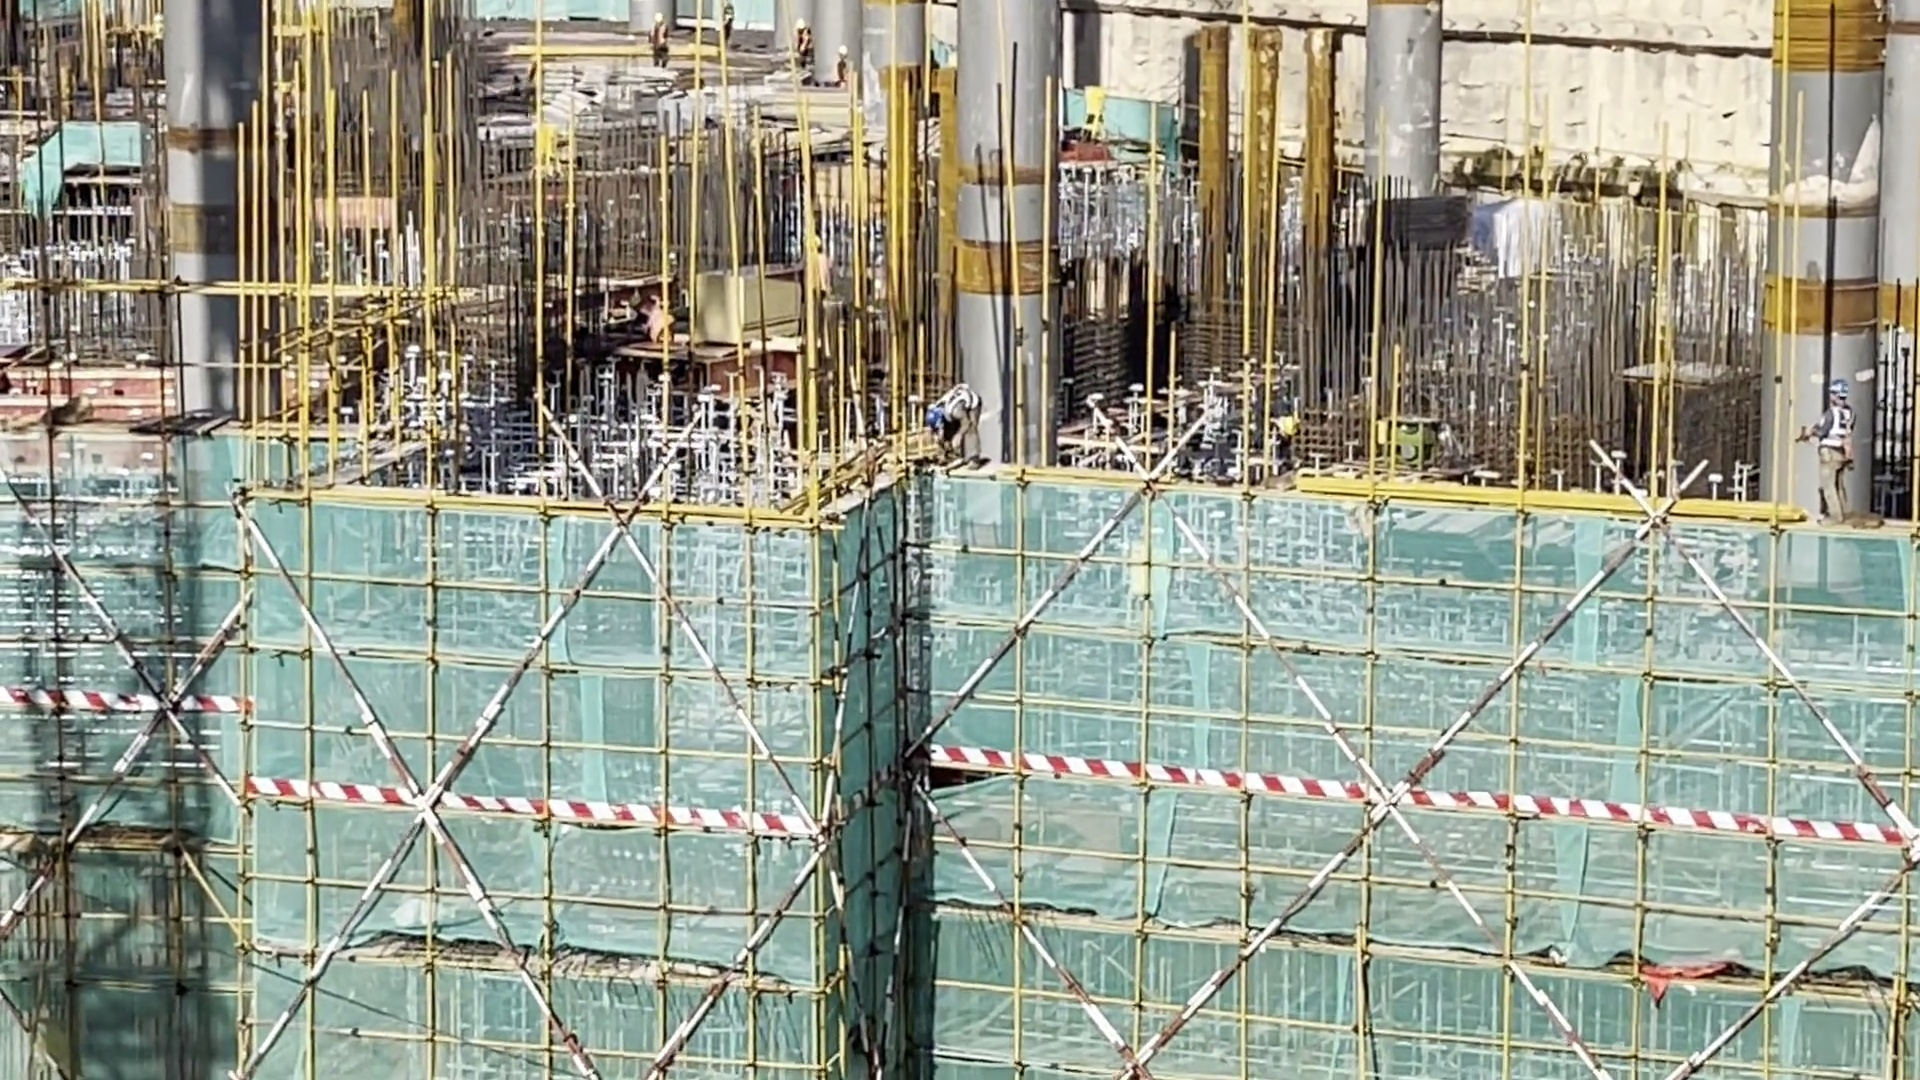helmet: (1278, 417, 1298, 449), (626, 291, 643, 308), (839, 45, 852, 66), (526, 49, 544, 63), (1831, 382, 1849, 397), (792, 17, 808, 28), (654, 13, 664, 25), (926, 412, 936, 422)
person: (1811, 375, 1861, 518), (921, 385, 984, 468), (630, 286, 681, 341), (1266, 416, 1296, 478), (516, 48, 546, 110), (833, 41, 863, 98), (709, 5, 741, 56), (649, 18, 674, 70), (798, 25, 811, 63)
vest: (933, 379, 979, 422), (1821, 397, 1849, 437), (646, 303, 669, 336), (651, 22, 669, 51), (838, 63, 851, 87), (528, 66, 539, 91), (721, 4, 734, 27), (796, 33, 811, 51)
